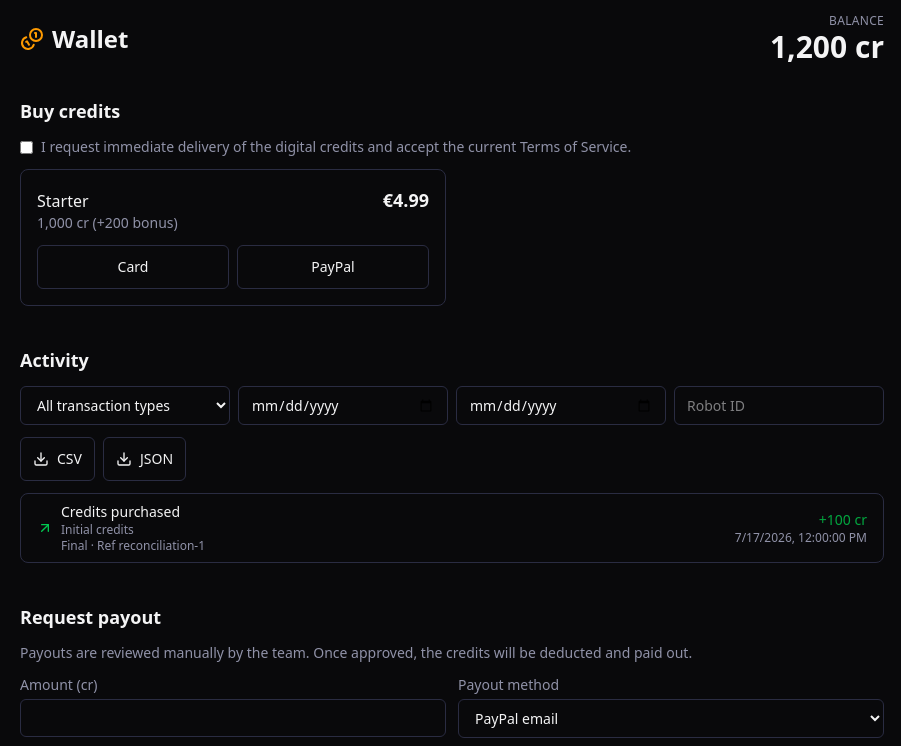
Scenario: WalletPage › requires delivery consent and surfaces checkout failures
The width and height of the screenshot is (901, 746).
expect the button "Card" is disabled: met, box [37, 245, 229, 289]
Step 1. Click the checkbox → [26, 148], box [20, 141, 33, 154]
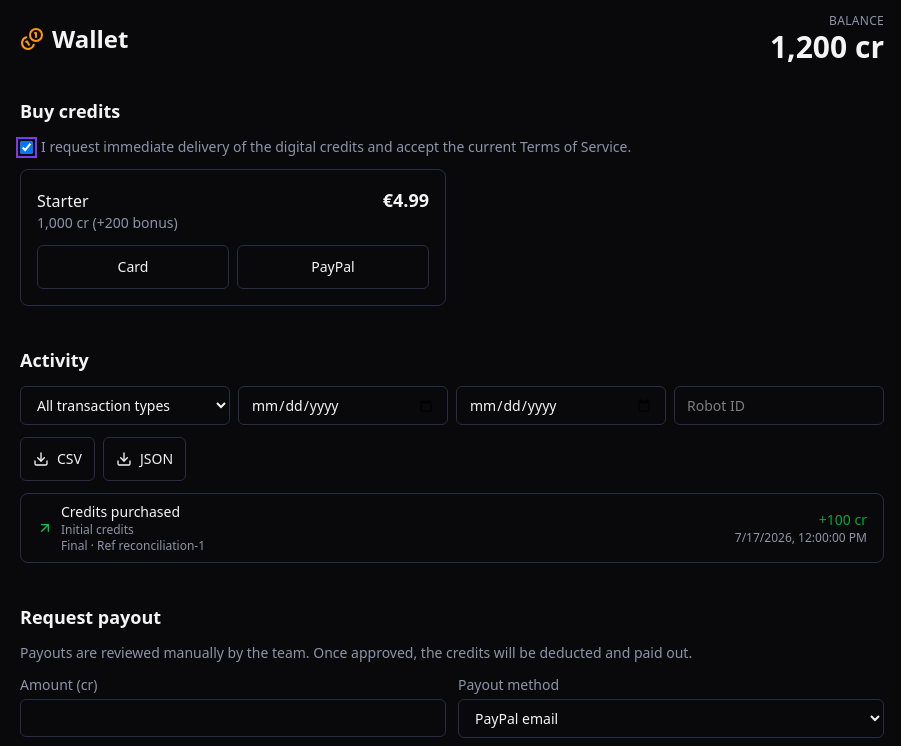
Step 2. Click the button "Card" → [133, 267], box [37, 245, 229, 289]
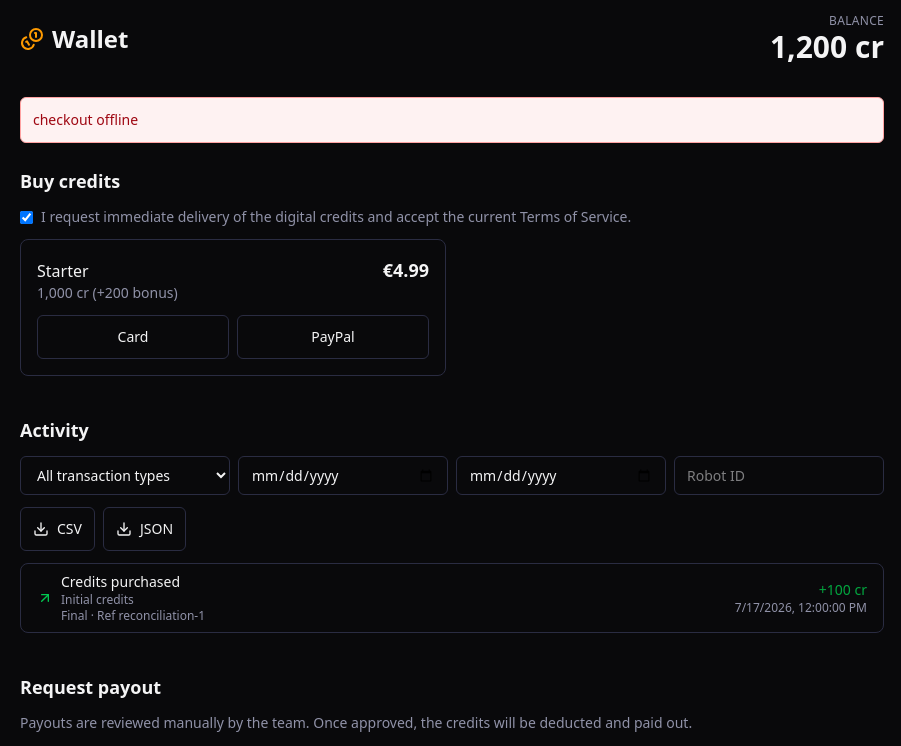
expect the button "Card" is enabled: met, box [37, 315, 229, 359]
expect the text "checkout offline" is shown: met, box [20, 97, 884, 143]
